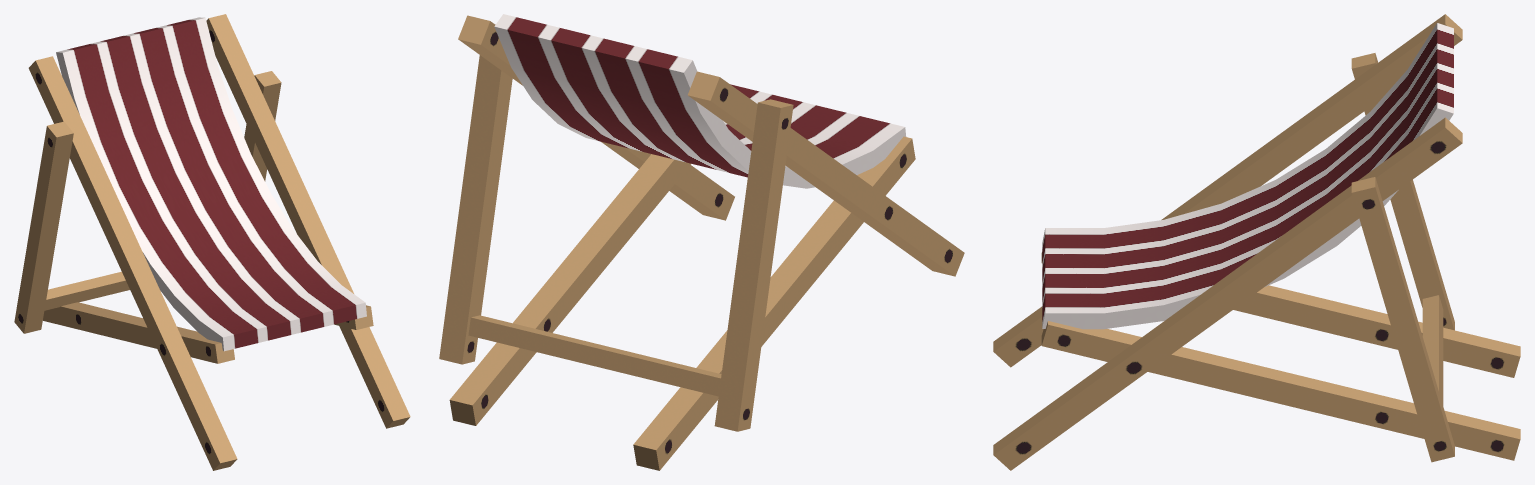
3 renders of one model, left to right at view 1: azimuth 30°, elevation 25°; view 2: azimuth 150°, elevation 25°; view 3: azimuth 270°, elevation 25°, orthographic. The views are drawn at different scales.
Parts seen in each view (by area): view 1: Object_2; view 2: Object_2; view 3: Object_2.
Boxes of the visible parts, x1=… form: Object_2: x1=14, y1=14, x2=410, y2=470; Object_2: x1=439, y1=14, x2=964, y2=470; Object_2: x1=993, y1=14, x2=1520, y2=470.
Size of the model in its own units: 130 by 157 by 215.
Materials: 1 (1 with a texture image).
